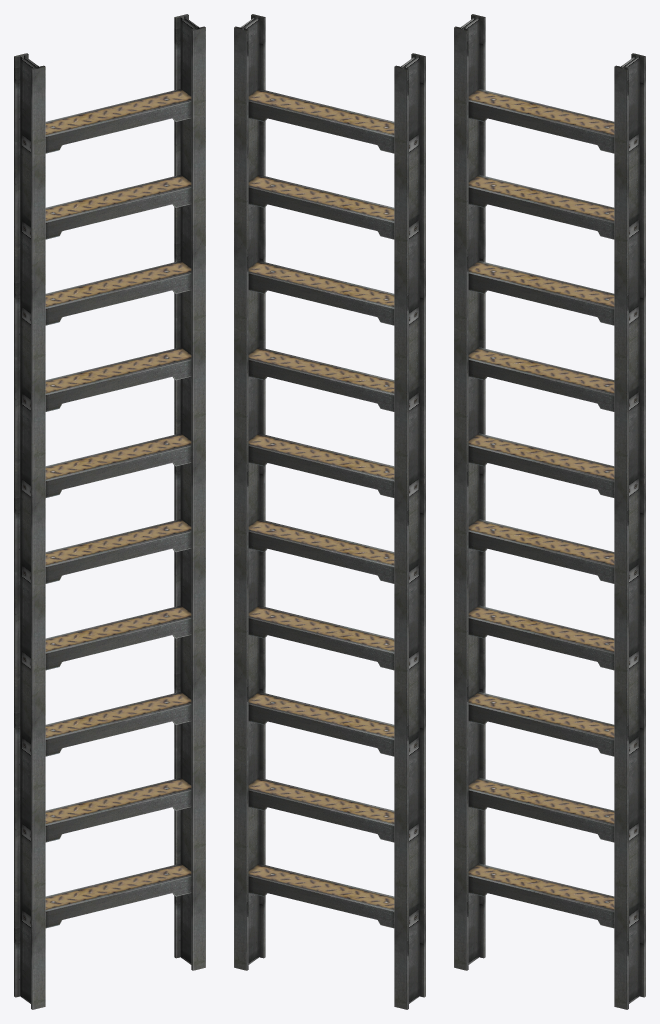
File: clt_ladder_construction_01_lod1.glb
3 renders of one model, left to right at view 1: azimuth 30°, elevation 25°; view 2: azimuth 150°, elevation 25°; view 3: azimuth 330°, elevation 25°, orthographic.
Parts seen in each view (by area): view 1: surf0; view 2: surf0; view 3: surf0.
Part boxes in pixels (x1,y1,x2,y2): surf0: (14,14,205,1009); surf0: (234,14,425,1009); surf0: (454,14,645,1009).
Size of the model in its own units: 27 by 140 by 5.
